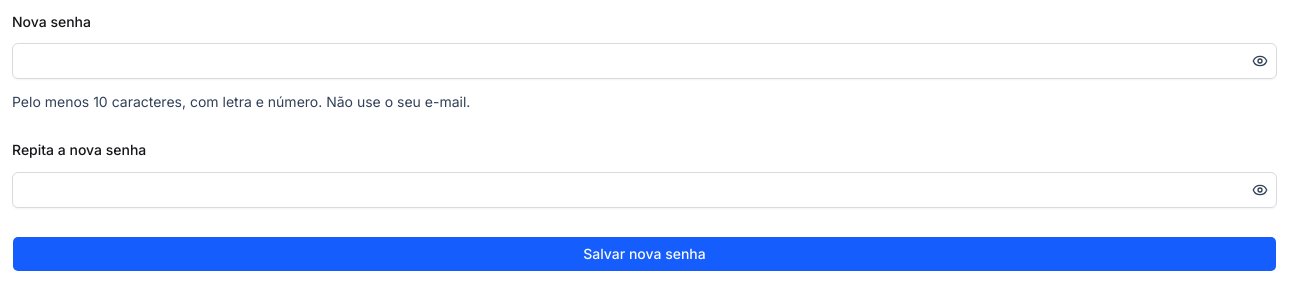
Scenario: ResetPasswordForm › explica quando o link venceu
In the password field labelled "Nova senha": (630, 61) [13, 43, 1248, 79], type "NovaSenha2026"
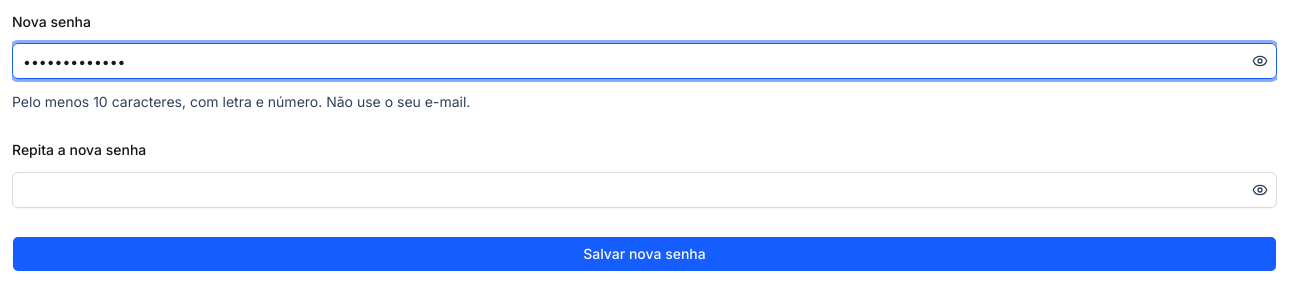
In the password field labelled "Repita a nova senha": (630, 190) [13, 172, 1248, 208], type "NovaSenha2026"
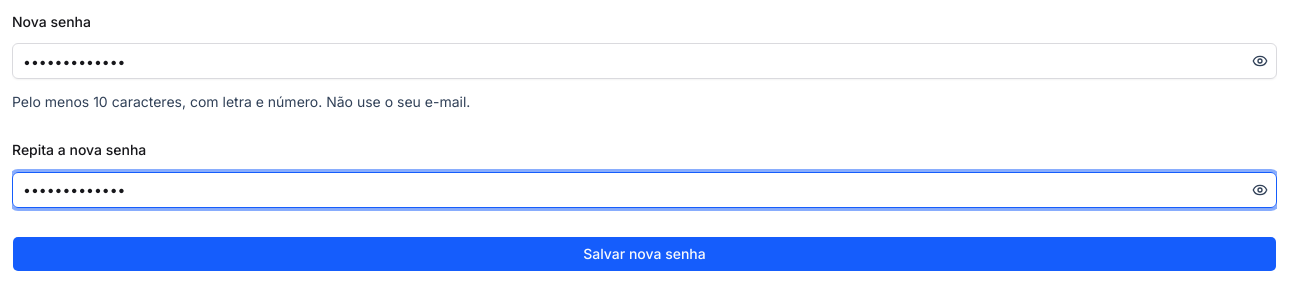
Click the button "Salvar nova senha": (644, 254) [12, 236, 1277, 272]
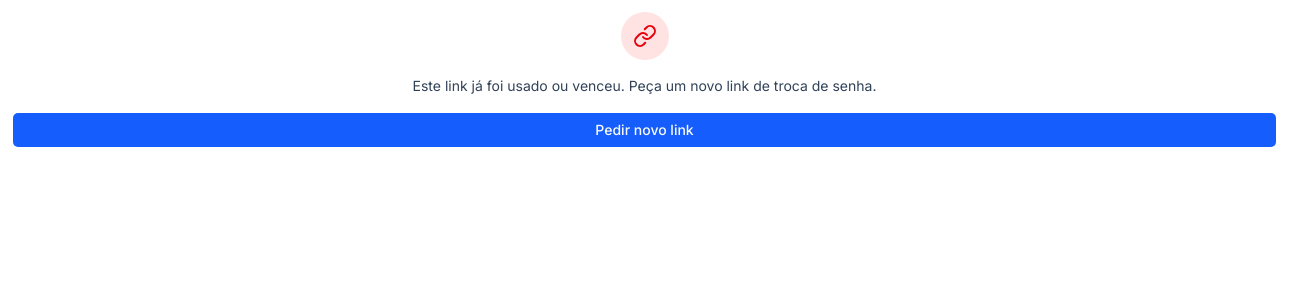
Check: the text "já foi usado ou venceu" is shown, box [412, 77, 876, 94]
